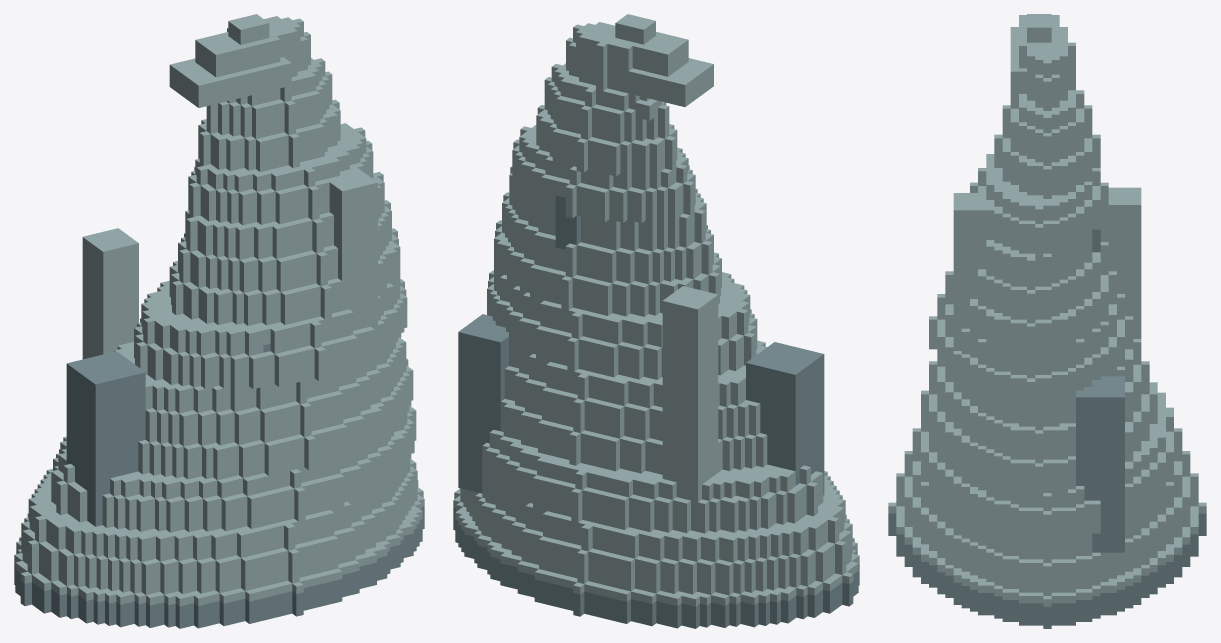
The model's file is crag_breakable_spire.glb.
The picture shows the model from 3 angles, left to right: view 1: azimuth 30°, elevation 25°; view 2: azimuth 150°, elevation 25°; view 3: azimuth 270°, elevation 25°; orthographic projection.
Parts seen in each view (by area): view 1: CragBreakableSpireSurface; view 2: CragBreakableSpireSurface; view 3: CragBreakableSpireSurface.
Part boxes in pixels (bbox=[...]): CragBreakableSpireSurface: bbox=[14, 14, 424, 628]; CragBreakableSpireSurface: bbox=[453, 14, 859, 628]; CragBreakableSpireSurface: bbox=[888, 14, 1206, 628].
Bounding box in the file's own units: 6.88 × 8.88 × 4.88.
